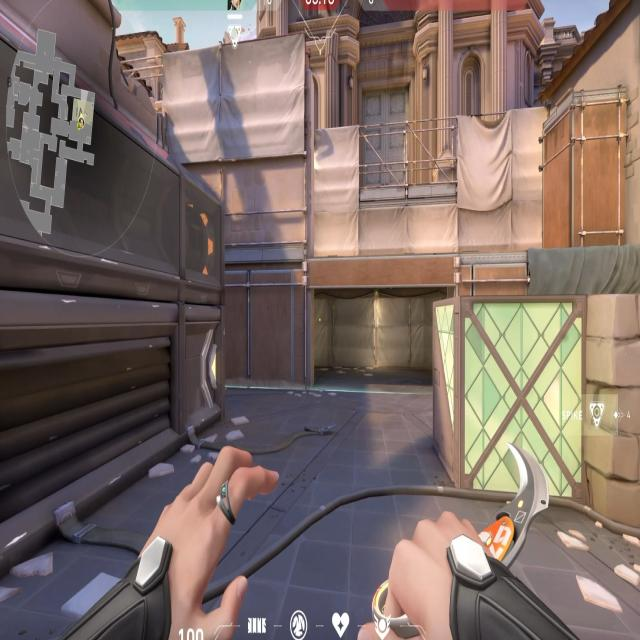A_Heaven_Box: (541, 77, 634, 257)
A_Heaven_Wall: (163, 34, 314, 290)
A_Hell: (302, 246, 465, 400)
A_Site_Box: (427, 288, 640, 522)
